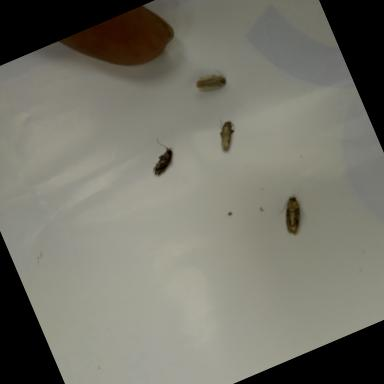pbw: (273, 191, 310, 237), (140, 134, 180, 176), (190, 64, 228, 96), (210, 114, 242, 151)
